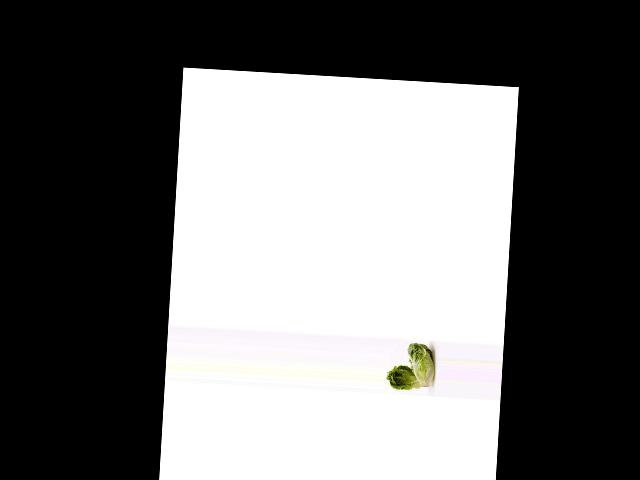lettuce: (402, 339, 437, 390)
